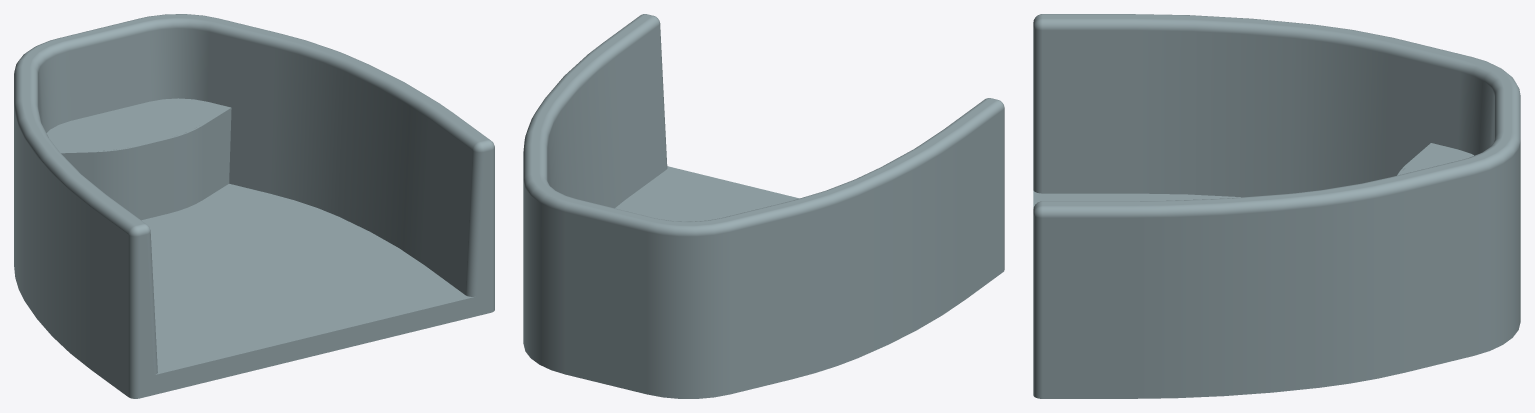
File: Stage.FBX
3 views of the same model, side by side, from view 1: azimuth 30°, elevation 25°; view 2: azimuth 150°, elevation 25°; view 3: azimuth 270°, elevation 25° (orthographic). The views are drawn at different scales.
Visible parts, largest first — view 1: StageHall, StageBarrier; view 2: StageHall; view 3: StageHall.
Boxes of the visible parts, x1,y1,x2,y2 form: StageHall: [14, 14, 494, 398]; StageBarrier: [60, 107, 231, 220]; StageHall: [523, 14, 1004, 398]; StageHall: [1033, 14, 1520, 398].
Bounding box in the file's own units: 6.65 × 2.95 × 6.89.
